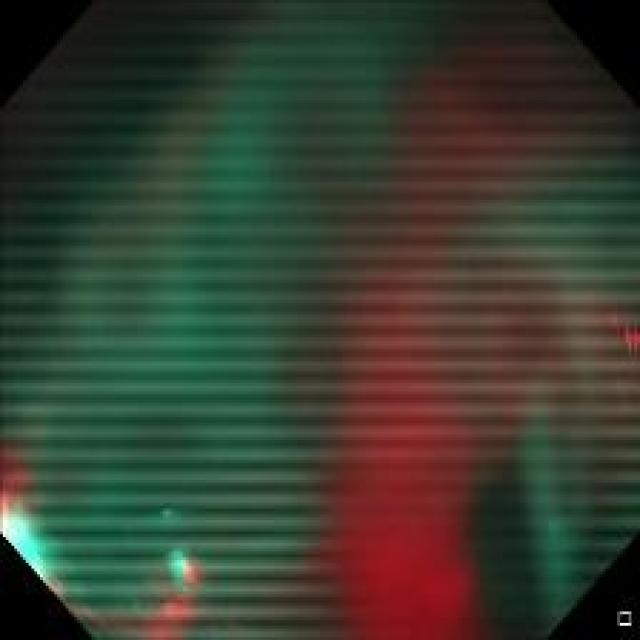color misalignment: (5, 8, 634, 626), (329, 61, 550, 609), (6, 448, 66, 602), (145, 539, 209, 622), (602, 305, 631, 365)
